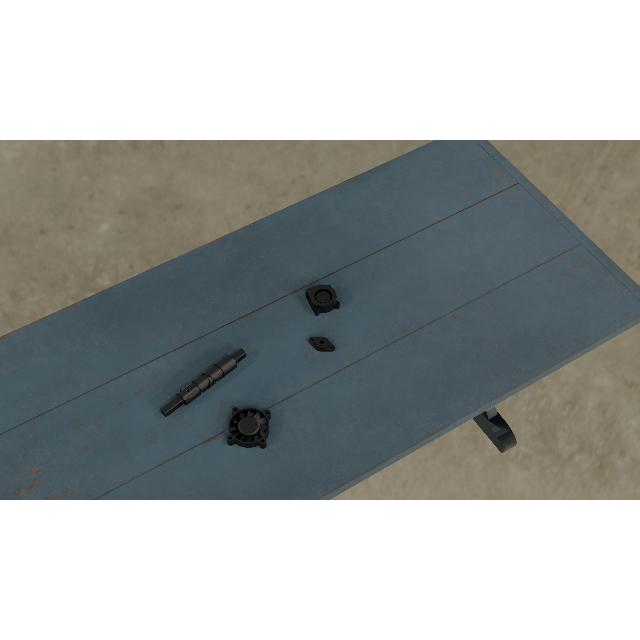Pieza1: (157, 343, 249, 422)
Pieza2: (306, 332, 338, 356)
Pieza3: (305, 281, 341, 317)
Pieza4: (226, 406, 272, 450)
